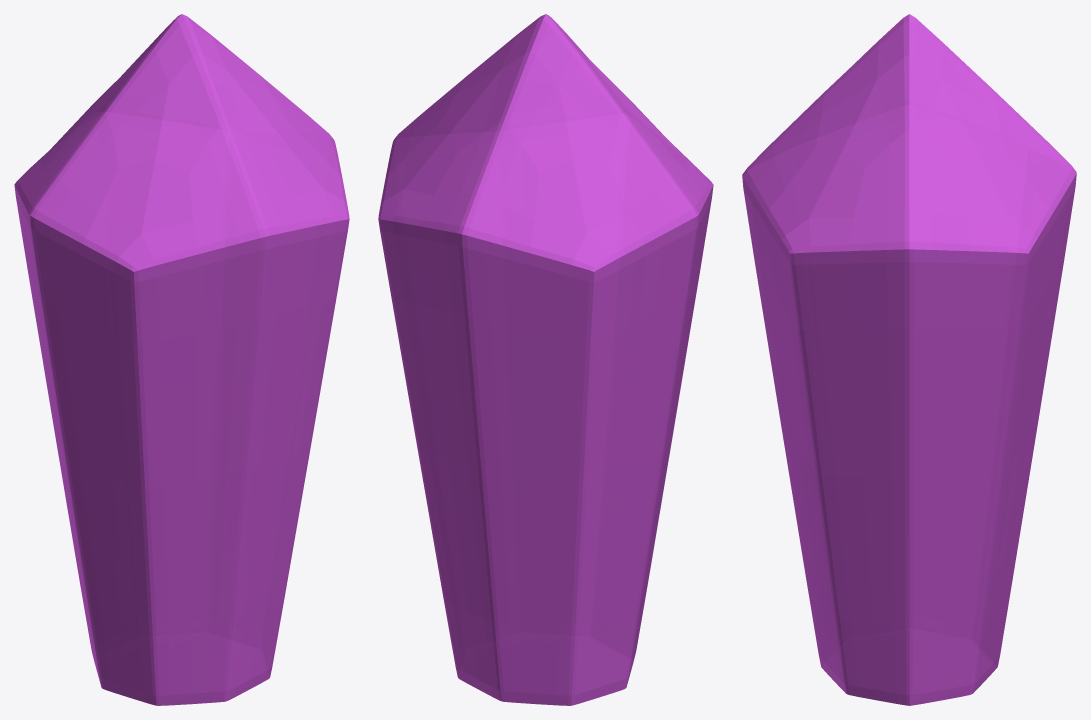
File: single_crystal.fbx
3 renders of one model, left to right at view 1: azimuth 30°, elevation 25°; view 2: azimuth 150°, elevation 25°; view 3: azimuth 270°, elevation 25°, orthographic.
Parts seen in each view (by area): view 1: Cylinder; view 2: Cylinder; view 3: Cylinder.
Boxes of the visible parts, x1,y1,x2,y2 form: Cylinder: (14, 14, 349, 705); Cylinder: (378, 14, 713, 705); Cylinder: (742, 14, 1076, 705).
Bounding box in the file's own units: 221 × 459 × 212.
